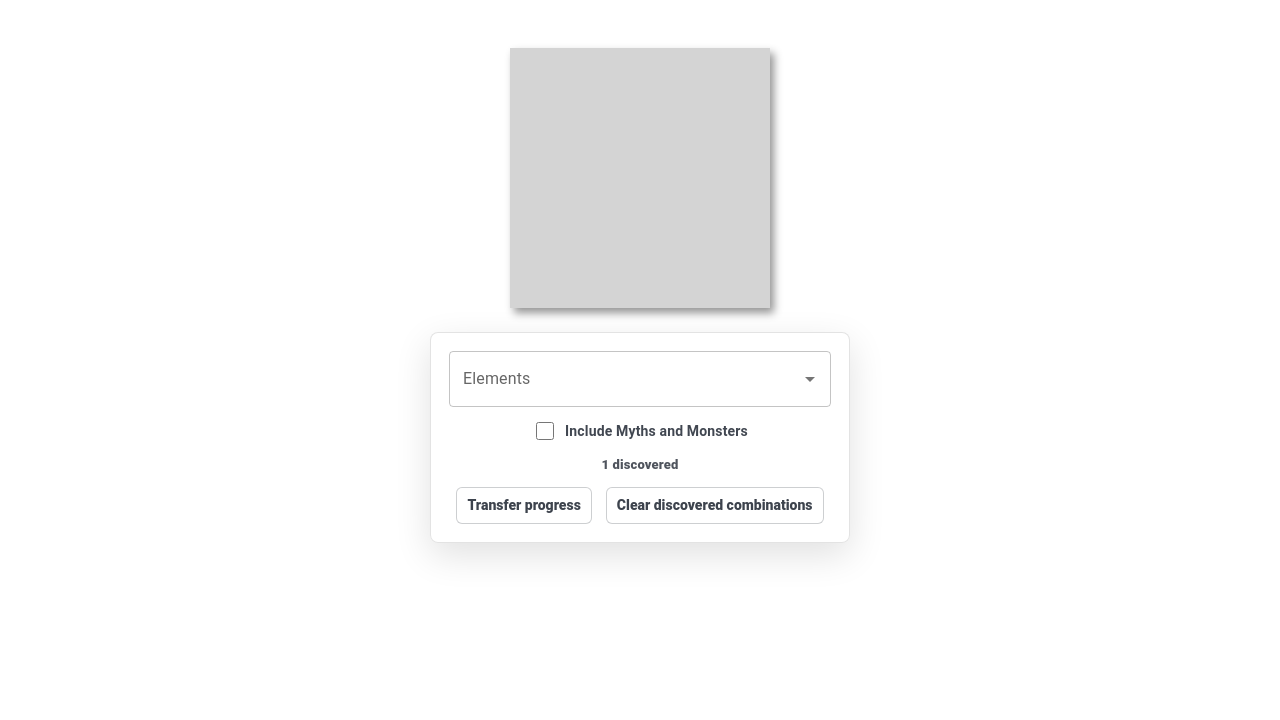
Test case: clears discovered combinations after danger confirmation
The image size is (1280, 720).
Click the button "Clear discovered combinations".
click(715, 505)  # box x1=606 y1=486 x2=824 y2=524
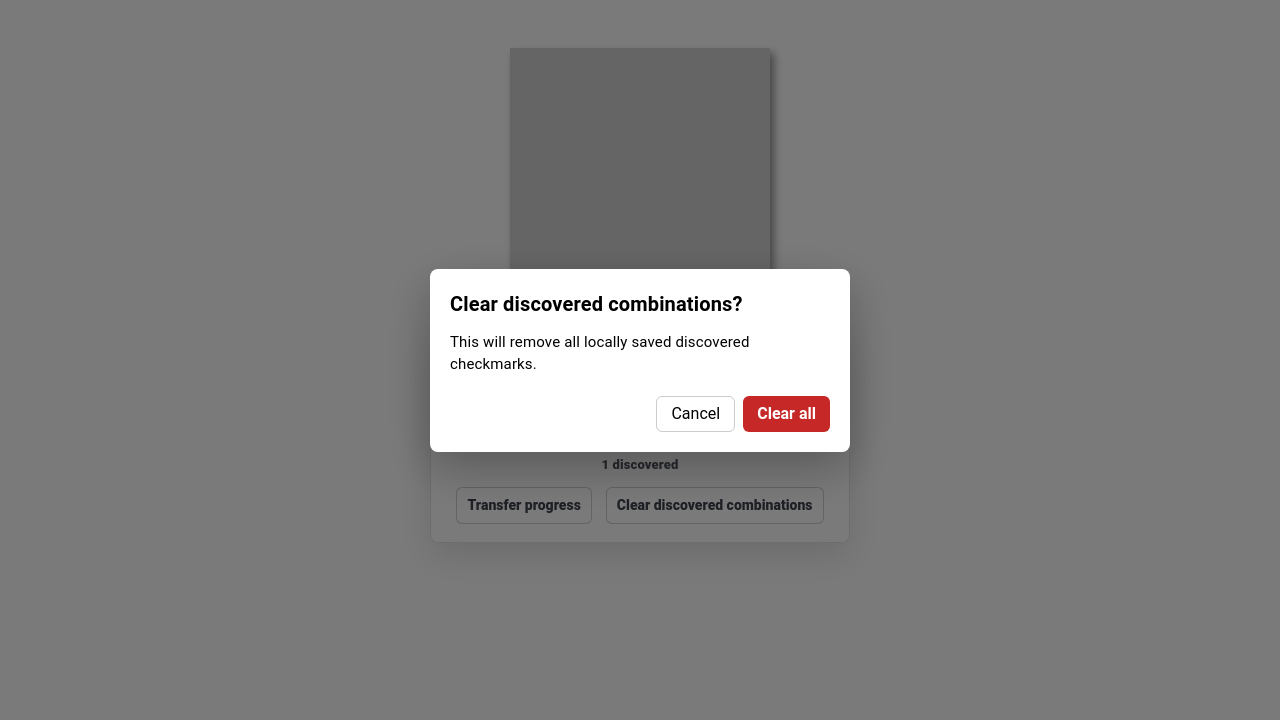
Check: the dialog "Clear discovered combinations" is shown, box x1=430 y1=268 x2=850 y2=452
Click the button "Cancel".
click(696, 414)  # box x1=656 y1=396 x2=735 y2=432
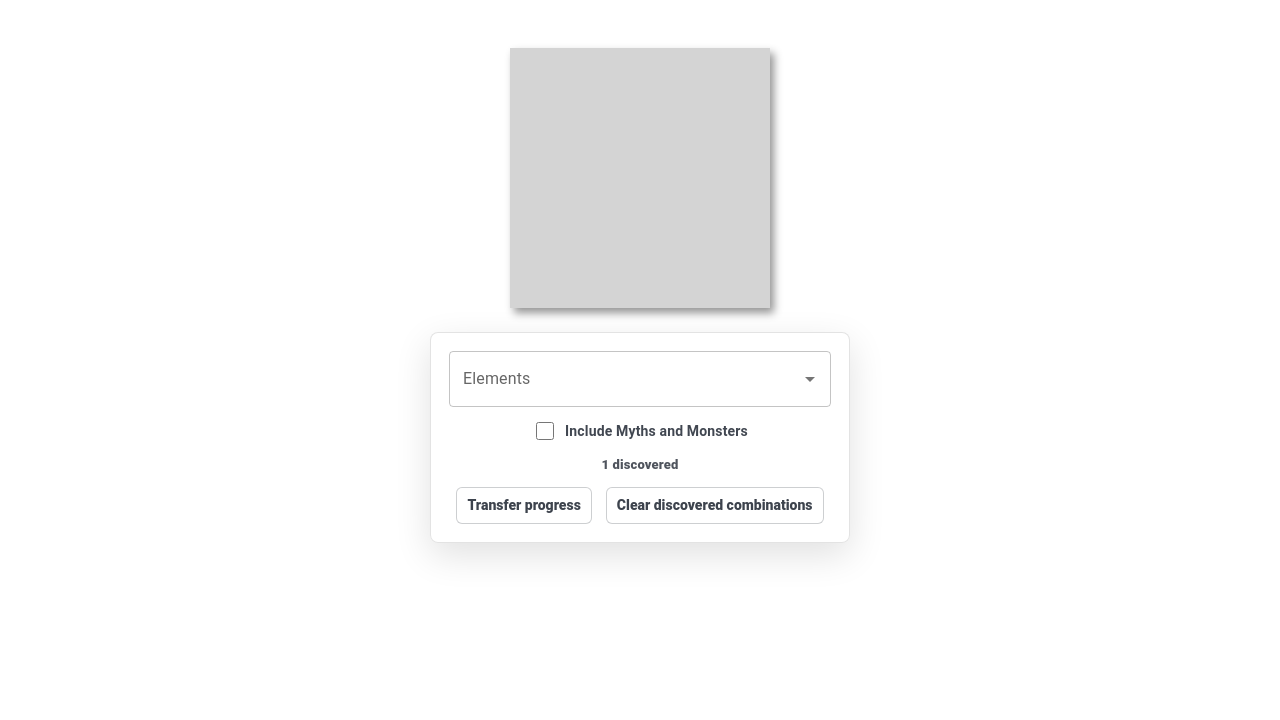
Click the button "Clear discovered combinations".
click(715, 505)  # box x1=606 y1=486 x2=824 y2=524
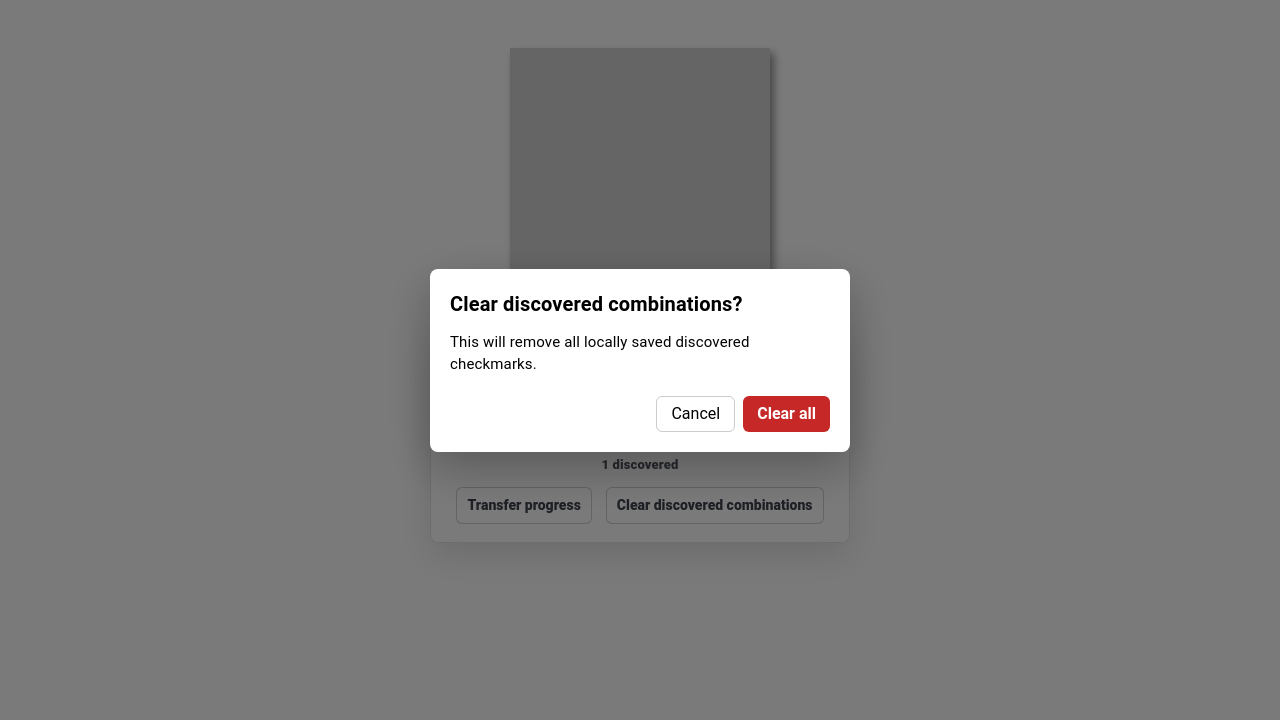
Click the button "Clear all".
click(787, 414)  # box x1=743 y1=396 x2=830 y2=432
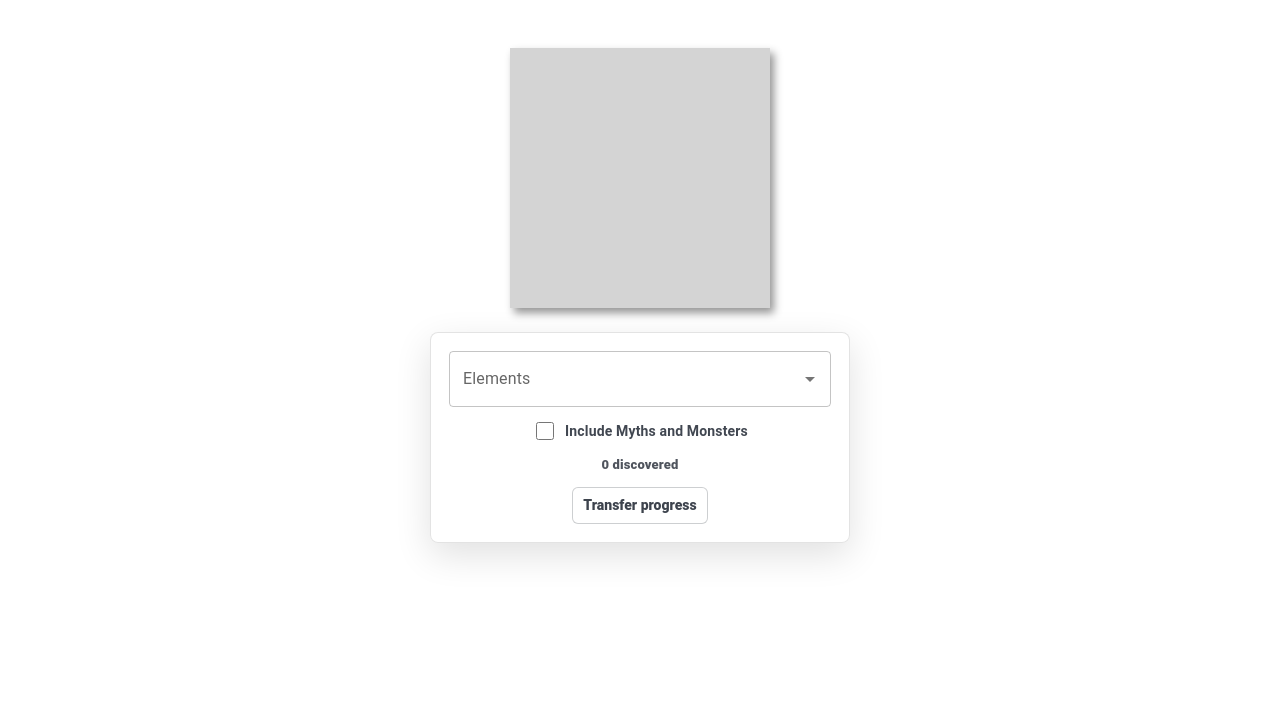
Check: the button "Clear discovered combinations" is gone
